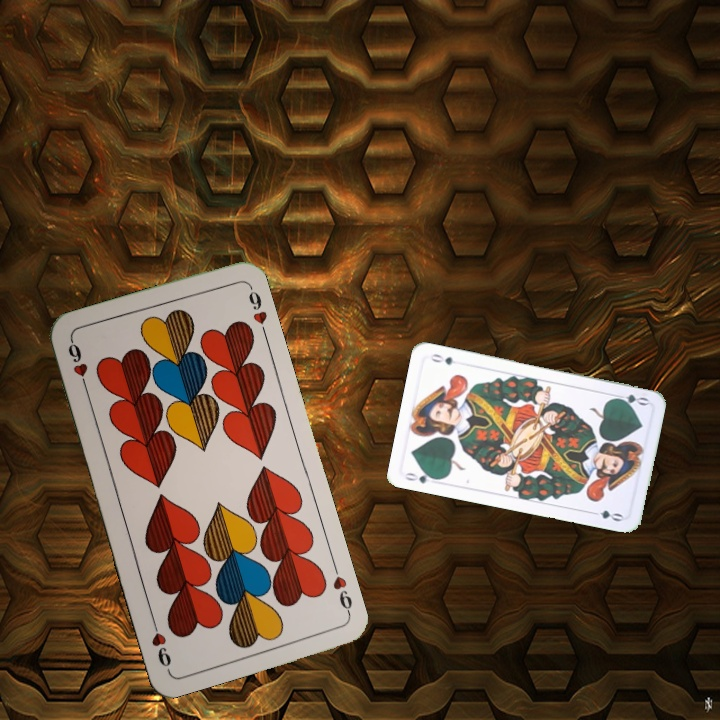GO: (401, 467, 442, 486), (609, 390, 651, 408)
H9: (64, 336, 91, 394), (329, 560, 355, 618)
